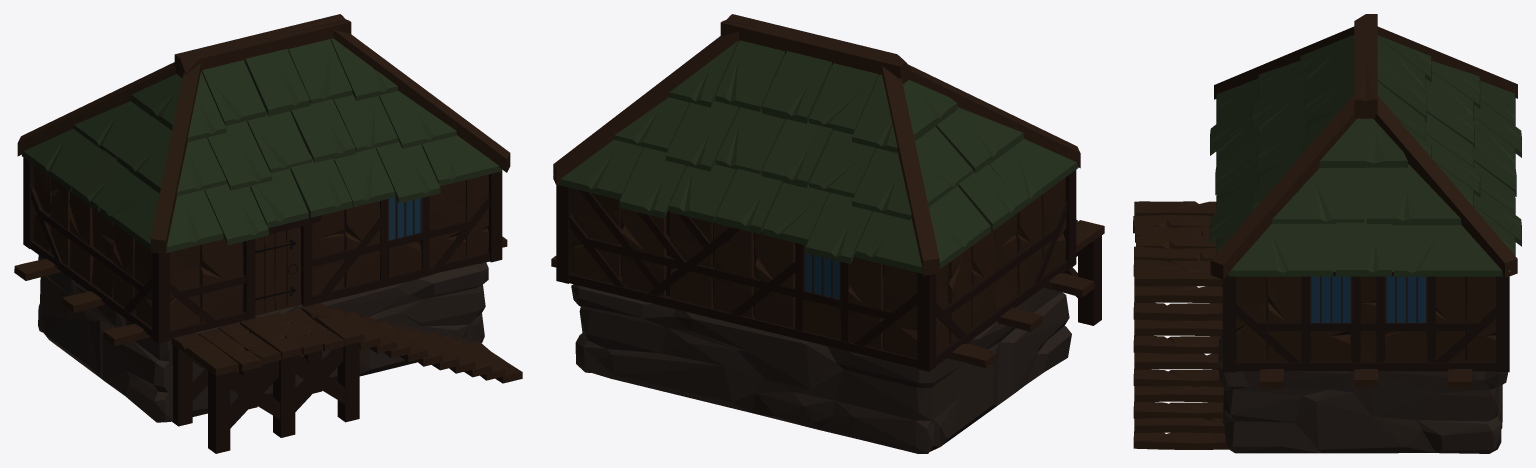
File: HouseEditedUV.obj
3 views of the same model, side by side, from view 1: azimuth 30°, elevation 25°; view 2: azimuth 150°, elevation 25°; view 3: azimuth 270°, elevation 25° (orthographic). The views are drawn at different scales.
Parts seen in each view (by area): view 1: house_Cube; view 2: house_Cube; view 3: house_Cube.
Boxes of the visible parts, x1=… form: house_Cube: x1=14, y1=14, x2=522, y2=453; house_Cube: x1=551, y1=14, x2=1104, y2=453; house_Cube: x1=1133, y1=14, x2=1521, y2=453.
Size of the model in its own units: 5.76 by 4.15 by 4.62.
